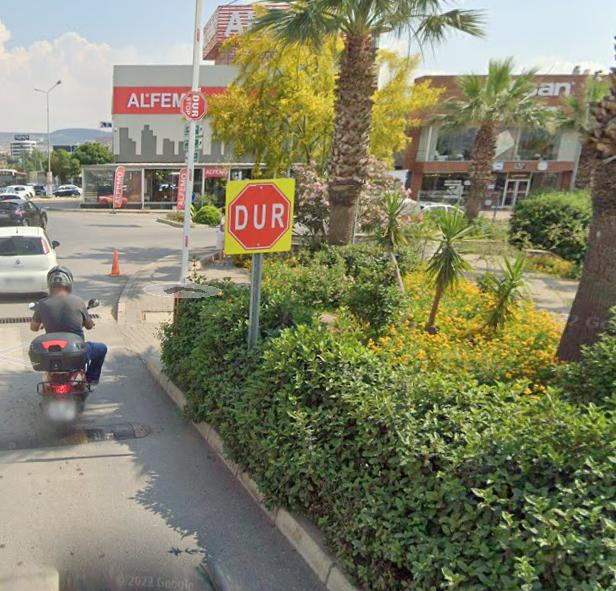stop: (228, 183, 292, 251)
